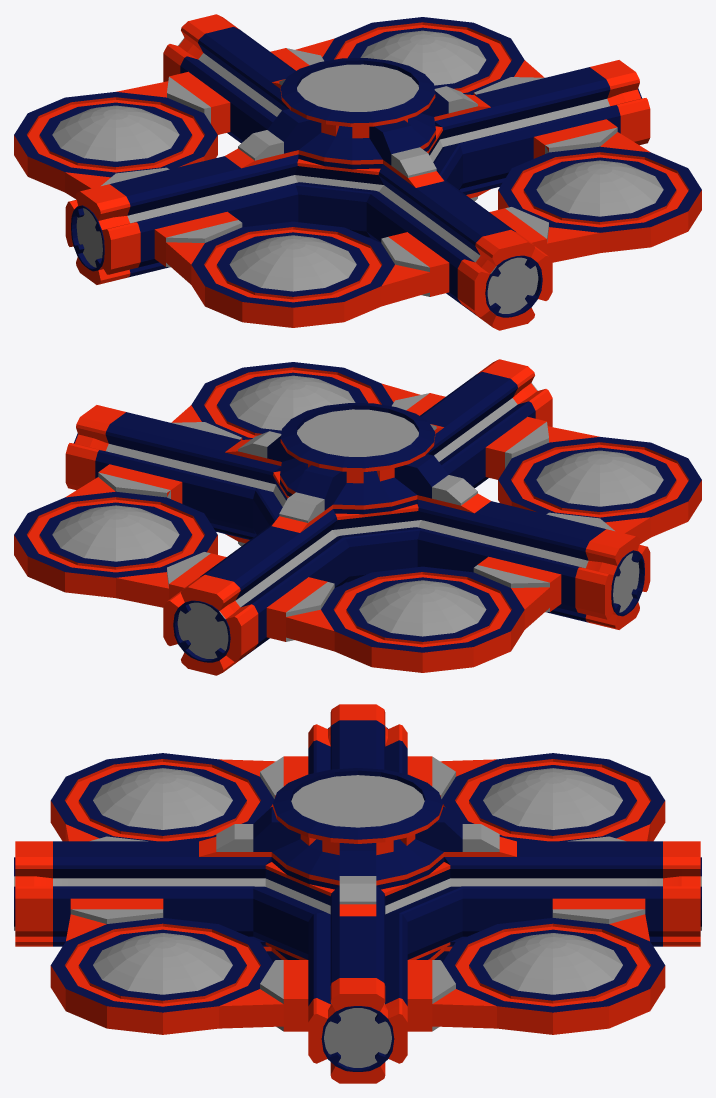
Rendered from Barnyard_LOD01.FBX.
3 renders of one model, top to bottom at view 1: azimuth 30°, elevation 25°; view 2: azimuth 150°, elevation 25°; view 3: azimuth 270°, elevation 25°, orthographic. The views are drawn at different scales.
Visible parts, largest first — view 1: barnYard001; view 2: barnYard001; view 3: barnYard001.
Boxes of the visible parts, box(x1,y1,x2,y2) form: barnYard001: box(14, 14, 701, 330); barnYard001: box(14, 359, 701, 675); barnYard001: box(14, 704, 701, 1083).
Size of the model in its own units: 279 by 279 by 84.89.
